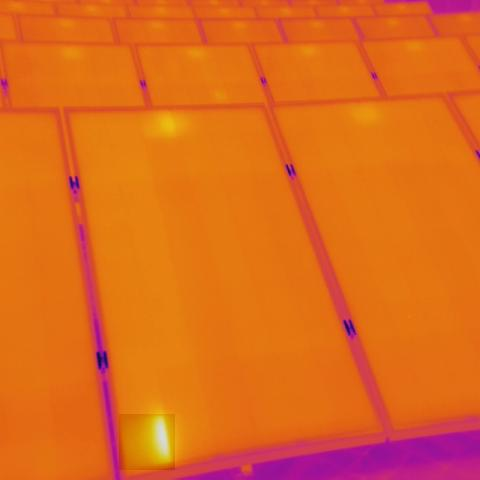fault: (120, 414, 176, 470)
